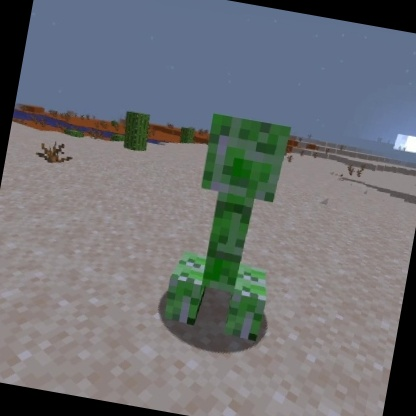creeper: (156, 104, 301, 347)
